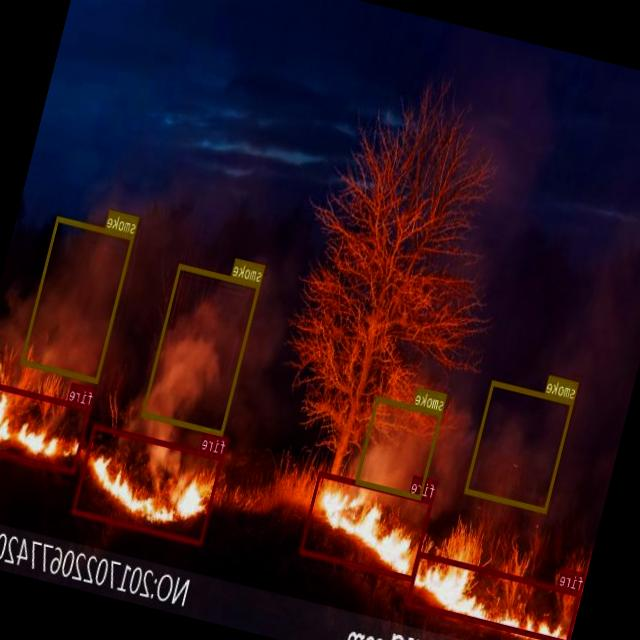fire: (72, 422, 225, 545), (406, 551, 582, 640), (299, 469, 434, 582), (0, 378, 91, 473)
smoke: (142, 262, 261, 436), (21, 216, 135, 383), (464, 379, 574, 512), (355, 396, 443, 500)
